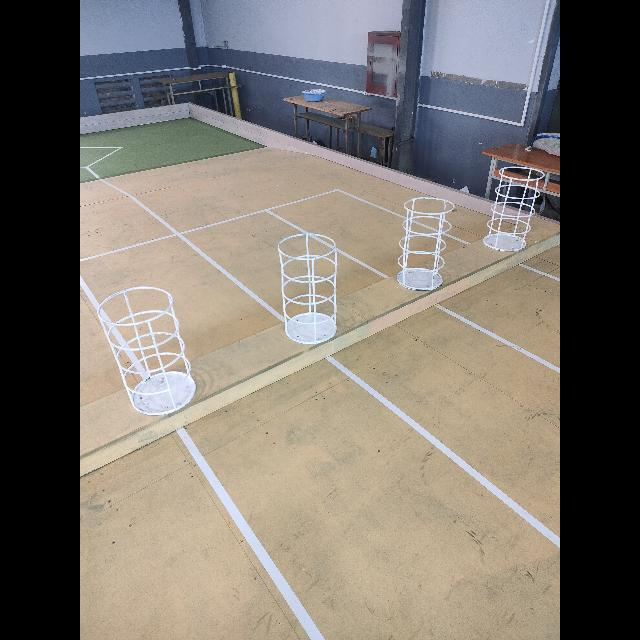S: (96, 286, 198, 414), (279, 232, 338, 344), (480, 162, 546, 253), (398, 194, 454, 293)
